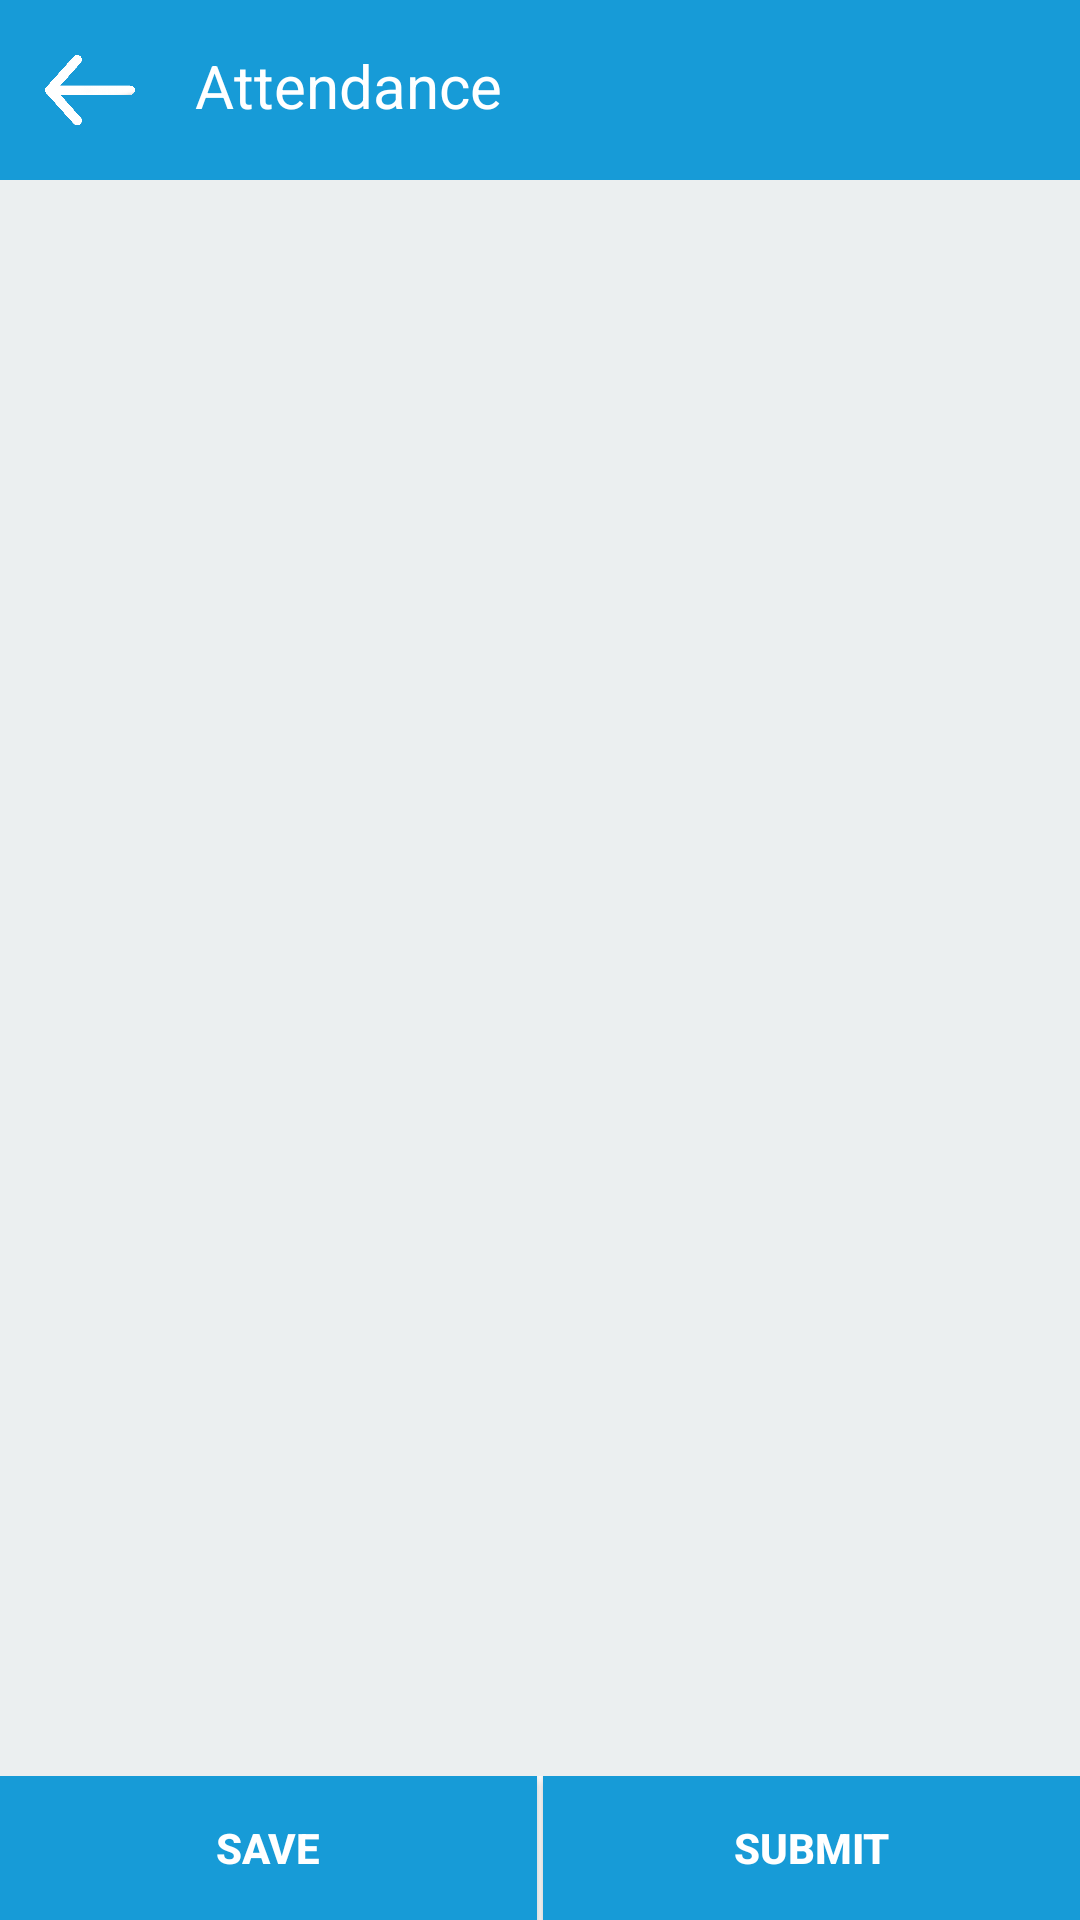

Icon click points for this 1080 x 1920 phone screenshot, format [x,y]:
back: [90,90]
